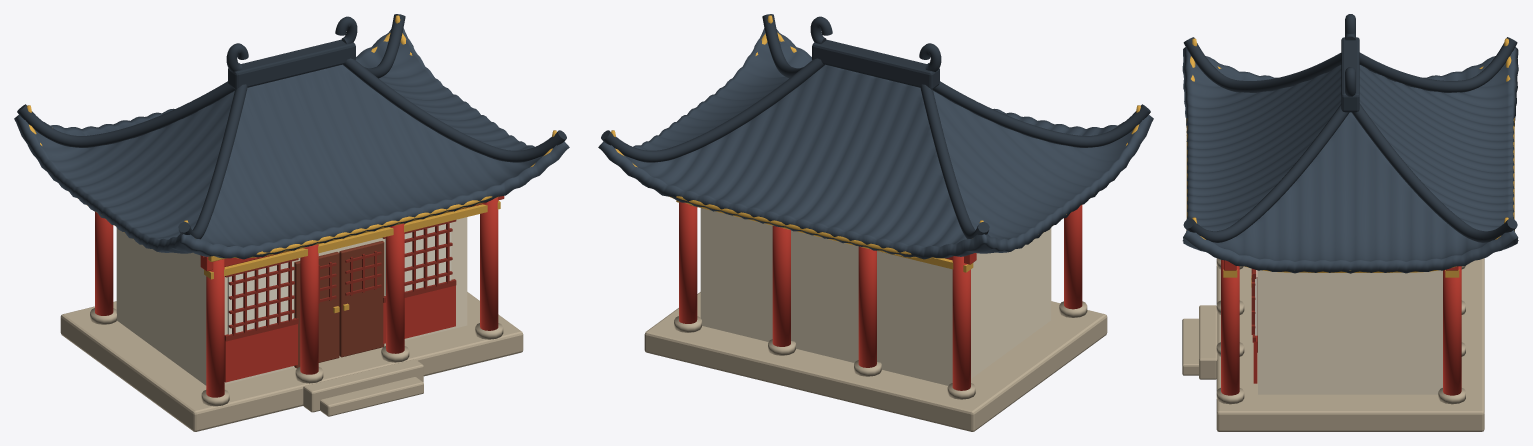
The model's file is hall.glb.
The picture shows the model from 3 angles, left to right: view 1: azimuth 30°, elevation 25°; view 2: azimuth 150°, elevation 25°; view 3: azimuth 270°, elevation 25°; orthographic projection.
Parts seen in each view (by area): view 1: Hall; view 2: Hall; view 3: Hall.
Part boxes in pixels (x1,y1,x2,y2): Hall: (14, 14, 569, 431); Hall: (598, 14, 1153, 431); Hall: (1182, 14, 1518, 431).
Size of the model in its own units: 4.83 by 3.72 by 3.64.
